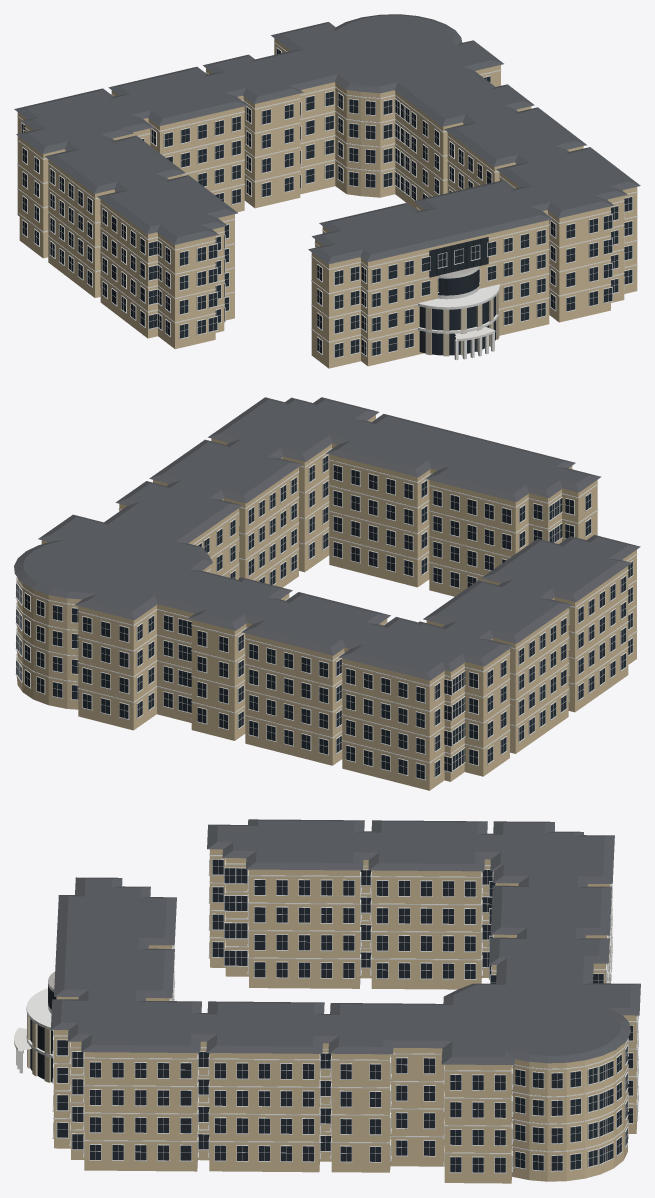
Rendered from capella_hall.glb.
3 views of the same model, one above another, from view 1: azimuth 30°, elevation 25°; view 2: azimuth 150°, elevation 25°; view 3: azimuth 270°, elevation 25° (orthographic). The views are drawn at different scales.
Parts seen in each view (by area): view 1: capella_hall_Roof_Shingle, capella_hall_Wall_beigeStucco, capella_hall_Glass_dark, capella_hall_Trim_White, capella_hall_Wall_limestone, capella_hall_Frame_Dark; view 2: capella_hall_Wall_beigeStucco, capella_hall_Roof_Shingle, capella_hall_Trim_White, capella_hall_Glass_dark; view 3: capella_hall_Roof_Shingle, capella_hall_Wall_beigeStucco, capella_hall_Glass_dark, capella_hall_Trim_White, capella_hall_Wall_limestone.
Boxes of the visible parts, <box> form: capella_hall_Roof_Shingle: <box>14,14,640,264</box>; capella_hall_Wall_beigeStucco: <box>17,38,637,368</box>; capella_hall_Glass_dark: <box>21,48,632,357</box>; capella_hall_Trim_White: <box>17,42,637,360</box>; capella_hall_Wall_limestone: <box>425,291,499,356</box>; capella_hall_Frame_Dark: <box>429,237,488,295</box>; capella_hall_Wall_beigeStucco: <box>16,415,636,790</box>; capella_hall_Roof_Shingle: <box>14,397,640,680</box>; capella_hall_Trim_White: <box>15,419,637,780</box>; capella_hall_Glass_dark: <box>16,455,632,779</box>; capella_hall_Roof_Shingle: <box>50,819,640,1065</box>; capella_hall_Wall_beigeStucco: <box>54,849,636,1183</box>; capella_hall_Glass_dark: <box>30,859,632,1172</box>; capella_hall_Trim_White: <box>16,849,638,1173</box>; capella_hall_Wall_limestone: <box>27,1014,50,1082</box>.
Bounding box in the file's own units: 95.97 × 22.37 × 103.
